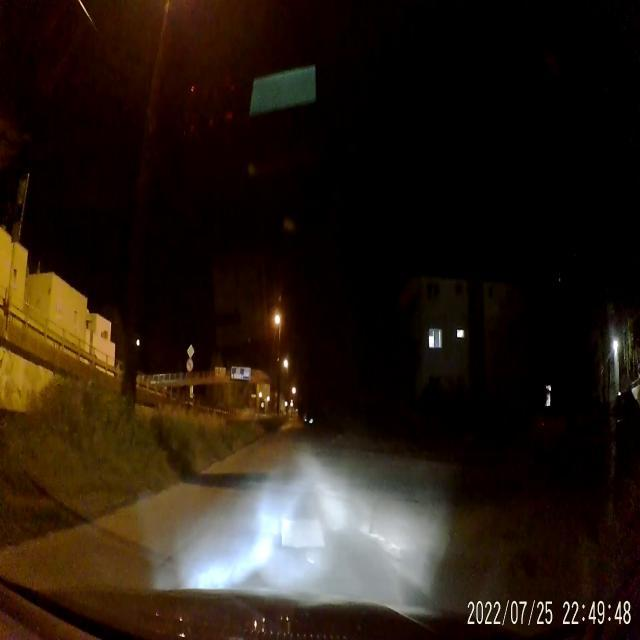Pothole: (364, 528, 408, 566), (278, 516, 324, 552)
